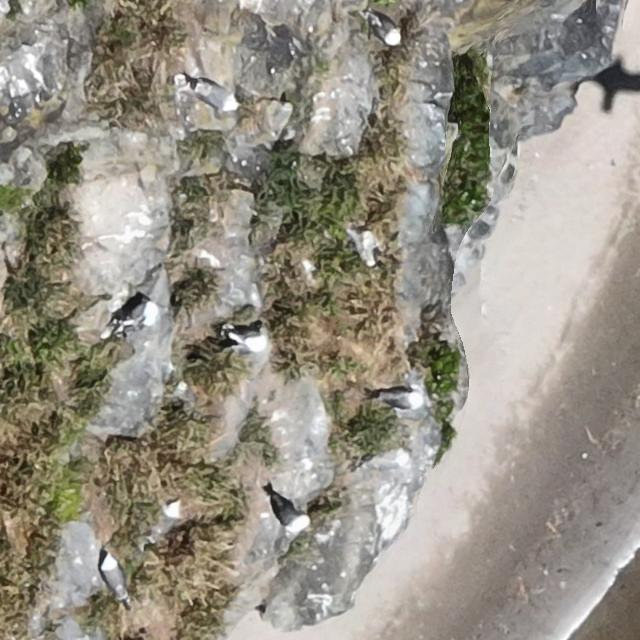umineko: (270, 490, 312, 533), (118, 297, 161, 326), (153, 499, 181, 542), (229, 324, 269, 352), (200, 84, 238, 111), (104, 558, 128, 598), (372, 16, 398, 44), (384, 392, 419, 410)
